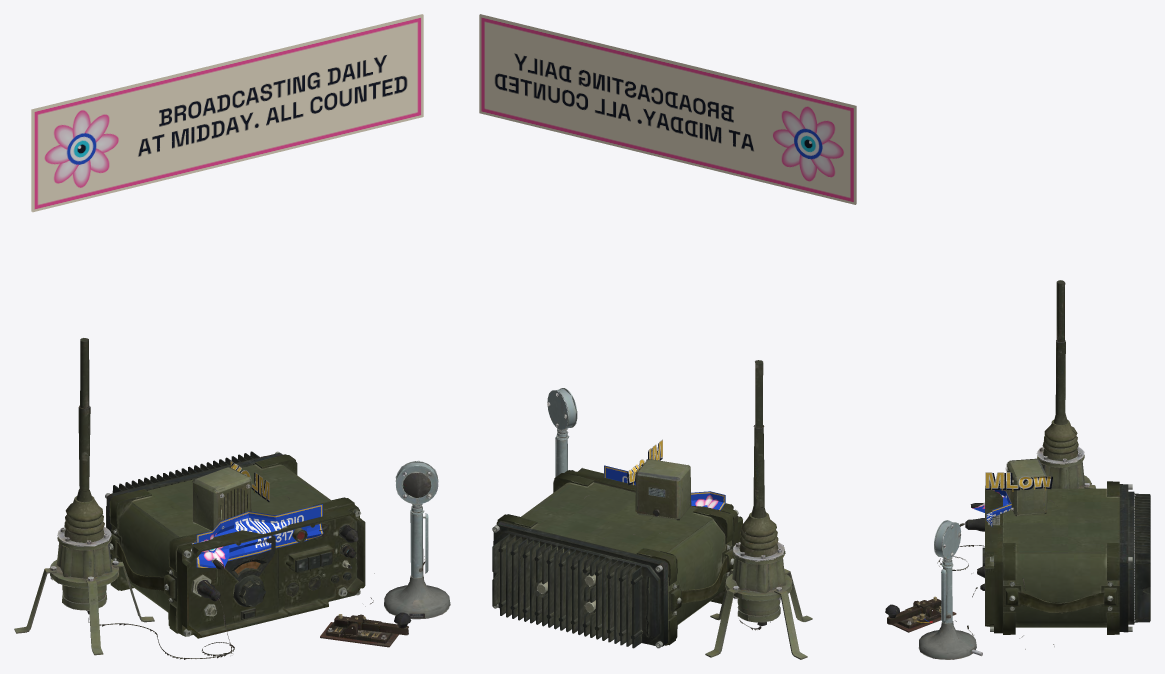
File: nyb_legend_radio.glb
The picture shows the model from 3 angles, left to right: view 1: azimuth 30°, elevation 25°; view 2: azimuth 150°, elevation 25°; view 3: azimuth 270°, elevation 25°; orthographic projection. The views are drawn at different scales.
Parts seen in each view (by area): view 1: vintage_radio_transceiver, add_lbl_679334d4cb.png, stk_lbl_d29fa7281f.png; view 2: vintage_radio_transceiver, add_lbl_679334d4cb.png, stk_lbl_d29fa7281f.png; view 3: vintage_radio_transceiver, stk_tag_mlow_gold.png, stk_lbl_d29fa7281f.png.
Boxes of the visible parts, box(x1,y1,x2,y2) form: vintage_radio_transceiver: box(14, 338, 450, 659); add_lbl_679334d4cb.png: box(31, 14, 423, 212); stk_lbl_d29fa7281f.png: box(192, 504, 323, 568); vintage_radio_transceiver: box(492, 360, 812, 659); add_lbl_679334d4cb.png: box(479, 14, 856, 204); stk_lbl_d29fa7281f.png: box(604, 465, 725, 510); vintage_radio_transceiver: box(885, 280, 1150, 659); stk_tag_mlow_gold.png: box(985, 472, 1052, 491); stk_lbl_d29fa7281f.png: box(972, 488, 1011, 526).
Bounding box in the file's own units: 0.62 × 0.8383 × 0.4136.
Materials: 5 (5 with a texture image).
